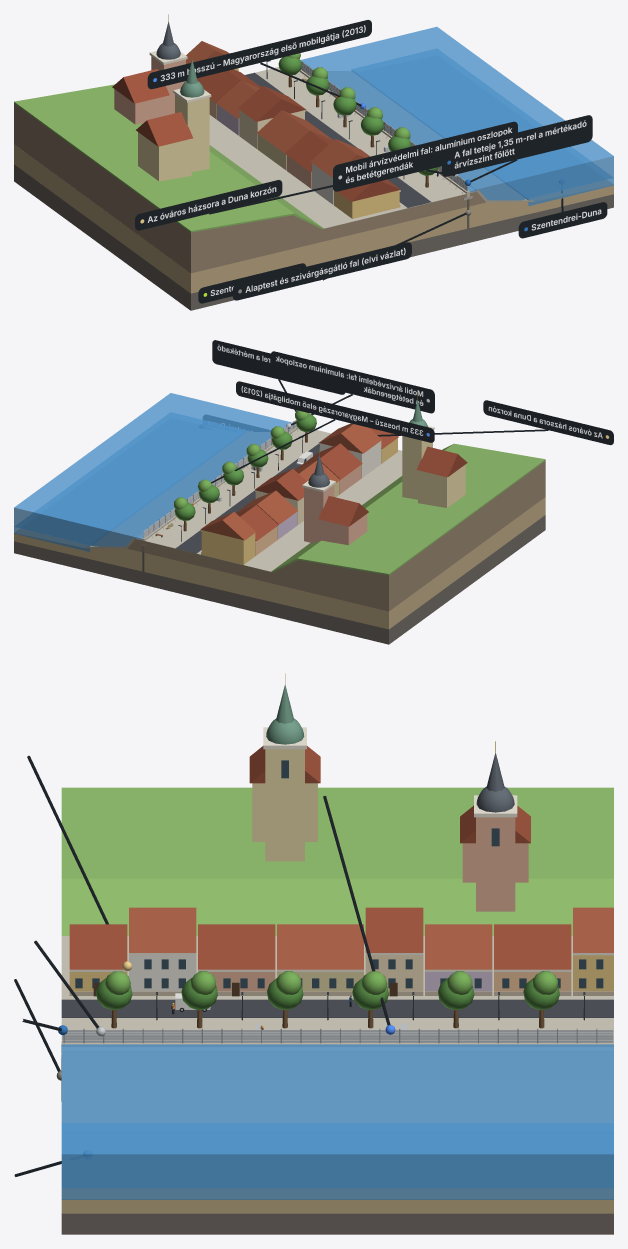
The model's file is mobilgat-feliratok.glb.
3 views of the same model, one above another, from view 1: azimuth 30°, elevation 25°; view 2: azimuth 150°, elevation 25°; view 3: azimuth 270°, elevation 25° (orthographic). The views are drawn at different scales.
Visible parts, largest first — view 1: arviz_m, varos_m_a08d77, kisviz, varos_m_8fbf6a, varos_m_c9b48c, varos_m_d3cdbf, varos_m_9c4f38 (×2), varos_m_77706a, label_6, label_0, label_3, varos_m_a65a40 (+17 smaller); view 2: arviz_m, kisviz, varos_m_a08d77, varos_m_8fbf6a, varos_m_c9b48c, varos_m_77706a, varos_m_d3cdbf, varos_m_9c4f38 (×2), label_0, varos_m_b9b2a4, varos_m_a65a40, label_3 (+9 smaller); view 3: arviz_m, varos_m_8fbf6a, kisviz, varos_m_b9b2a4, varos_m_9c4f38 (×2), varos_m_c9b48c, varos_m_77706a, varos_m_a65a40, varos_m_d3cdbf, varos_m_4a4e55, varos_m_f2e3b0, varos_m_e9b8a0 (+18 smaller).
Boxes of the visible parts, <box> form: arviz_m: <box>300,26,613,200</box>; varos_m_a08d77: <box>14,103,485,273</box>; kisviz: <box>352,49,613,206</box>; varos_m_8fbf6a: <box>14,84,323,232</box>; varos_m_c9b48c: <box>14,144,613,293</box>; varos_m_d3cdbf: <box>209,67,476,228</box>; varos_m_9c4f38 (×2): <box>112,69,400,201</box>; varos_m_77706a: <box>14,164,613,310</box>; label_6: <box>442,115,592,176</box>; label_0: <box>333,121,517,191</box>; label_3: <box>147,20,371,89</box>; varos_m_a65a40: <box>186,41,369,177</box>; arviz_m: <box>14,393,291,546</box>; kisviz: <box>14,413,245,551</box>; varos_m_a08d77: <box>127,461,545,611</box>; varos_m_8fbf6a: <box>271,443,545,575</box>; varos_m_c9b48c: <box>14,497,545,629</box>; varos_m_77706a: <box>14,515,545,644</box>; varos_m_d3cdbf: <box>136,428,402,571</box>; varos_m_9c4f38 (×2): <box>236,428,467,540</box>; label_0: <box>270,351,434,413</box>; varos_m_b9b2a4: <box>85,432,270,548</box>; varos_m_a65a40: <box>200,423,381,540</box>; label_3: <box>236,381,434,442</box>; arviz_m: <box>61,1044,613,1188</box>; varos_m_8fbf6a: <box>61,787,613,935</box>; kisviz: <box>61,1123,613,1199</box>; varos_m_b9b2a4: <box>62,1051,613,1122</box>; varos_m_9c4f38 (×2): <box>69,746,571,969</box>; varos_m_c9b48c: <box>61,1189,613,1213</box>; varos_m_77706a: <box>61,1213,613,1234</box>; varos_m_a65a40: <box>129,907,613,969</box>; varos_m_d3cdbf: <box>61,936,613,1050</box>; varos_m_4a4e55: <box>61,999,613,1017</box>; varos_m_f2e3b0: <box>252,749,317,861</box>; varos_m_e9b8a0: <box>209,817,528,991</box>.
Size of the model in its own units: 0.6711 by 0.247 by 0.4562.
66 materials, 7 textured.
